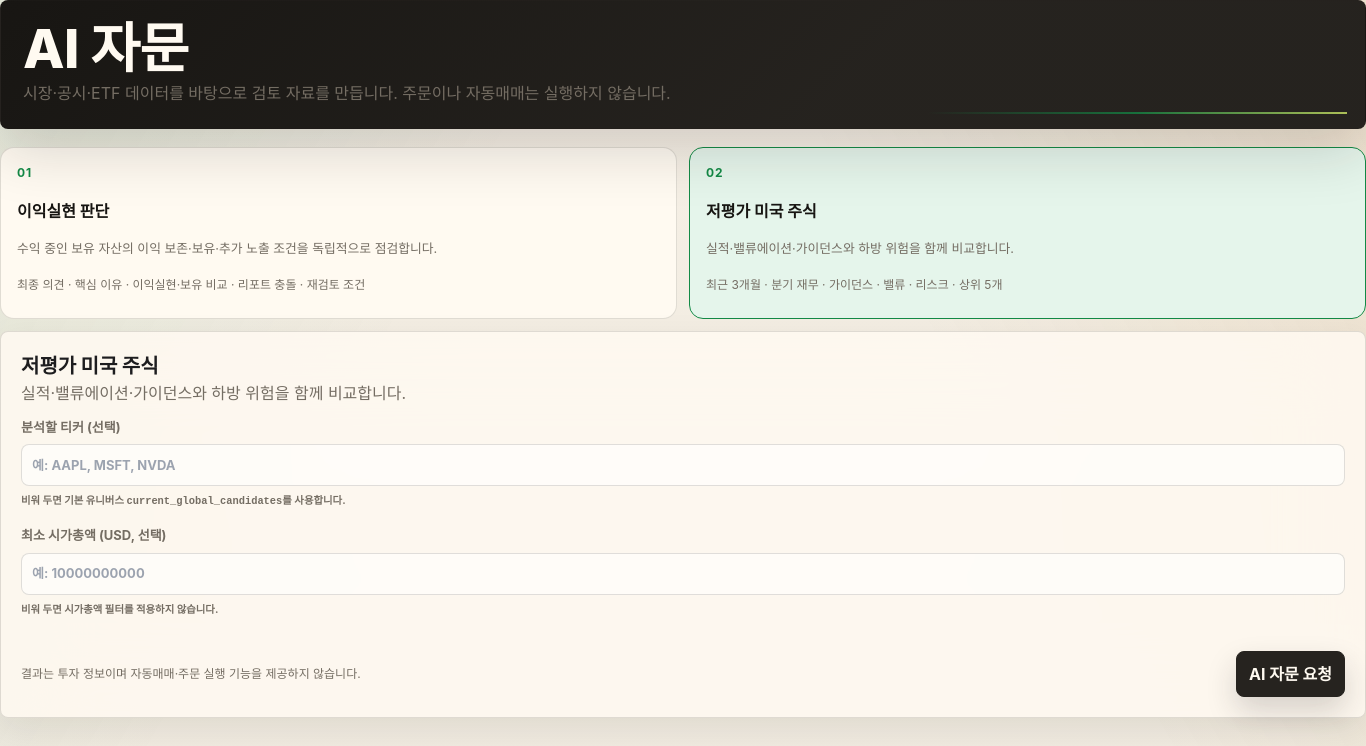
Test: Advisory page › maps failed job error code internal_error to Korean guidance
Expected: the button "AI 자문 요청" is enabled, [1236,651,1345,697]
Type "aapl" into the field with placeholder "예: AAPL, MSFT, NVDA".
click(683, 465); type("aapl")  # box [21,444,1345,486]
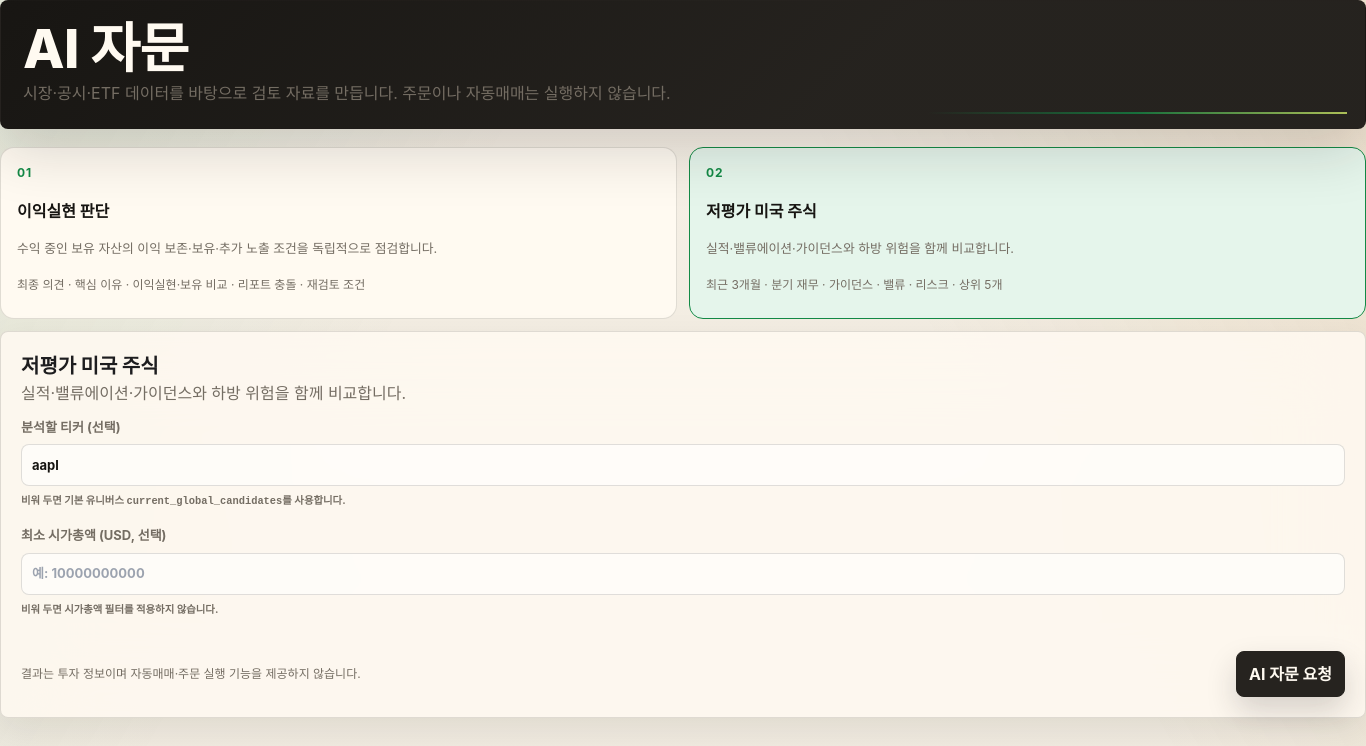
Click the button "AI 자문 요청".
click(1291, 674)  # box [1236,651,1345,697]
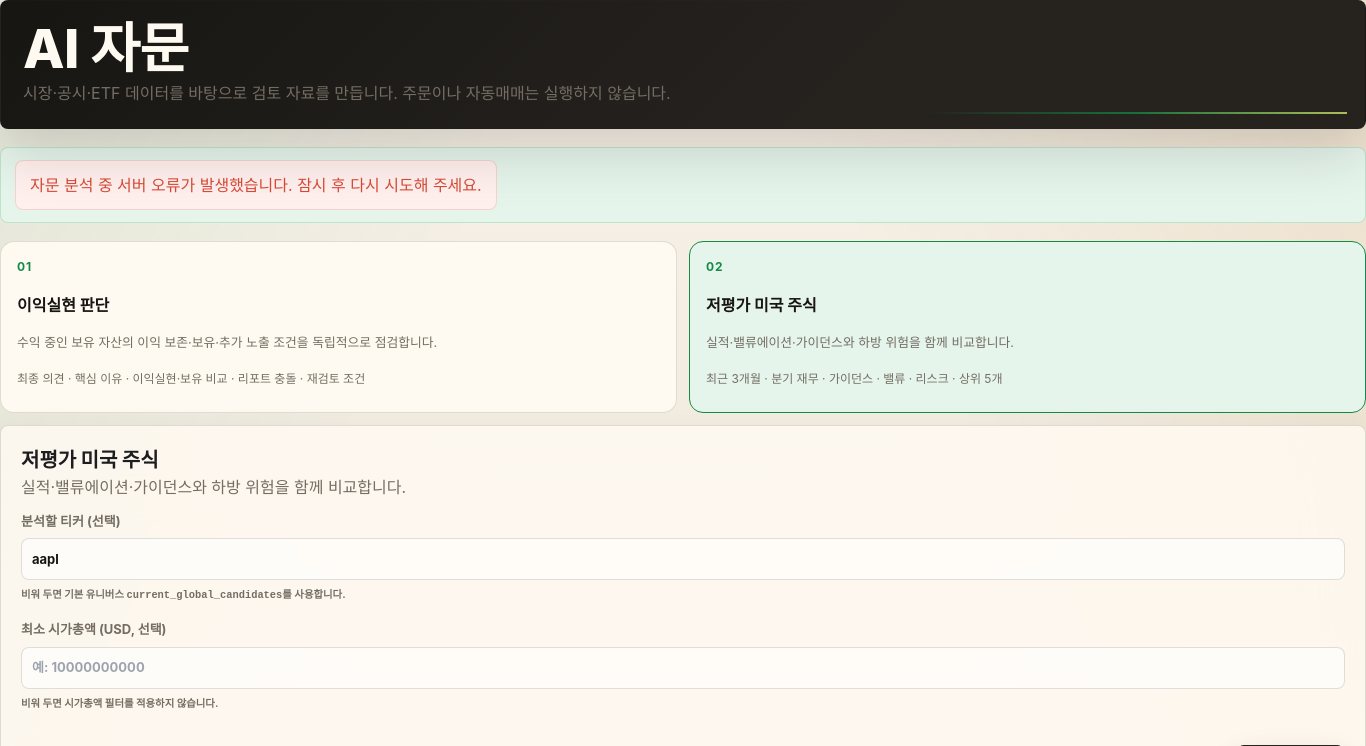
Now the text "자문 분석 중 서버 오류가 발생했습니다. 잠시 후 다시 시도해 주세요." is shown, box [15,160,497,210]
